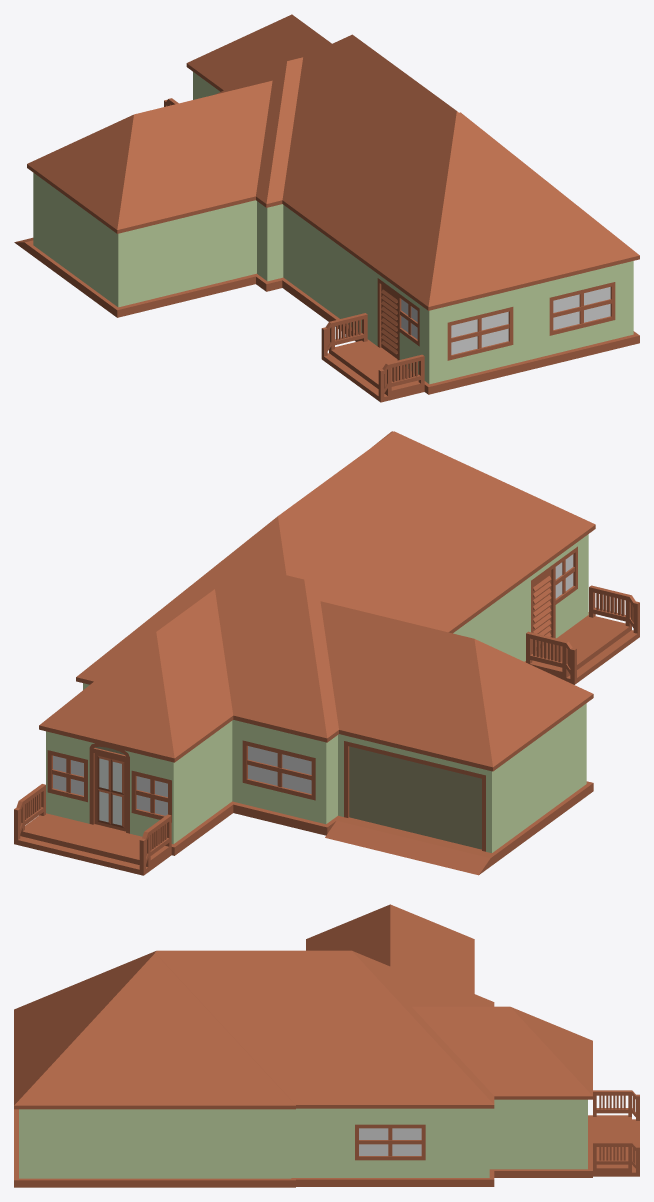
The model's file is House #18.fbx.
3 renders of one model, top to bottom at view 1: azimuth 30°, elevation 25°; view 2: azimuth 150°, elevation 25°; view 3: azimuth 270°, elevation 25°, orthographic. The views are drawn at different scales.
Visible parts, largest first — view 1: building_001; view 2: building_001; view 3: building_001.
Boxes of the visible parts, box(x1,y1,x2,y2) form: building_001: box(14, 14, 639, 402); building_001: box(14, 431, 639, 875); building_001: box(14, 904, 639, 1187).
Size of the model in its own units: 1004 by 530 by 1595.
